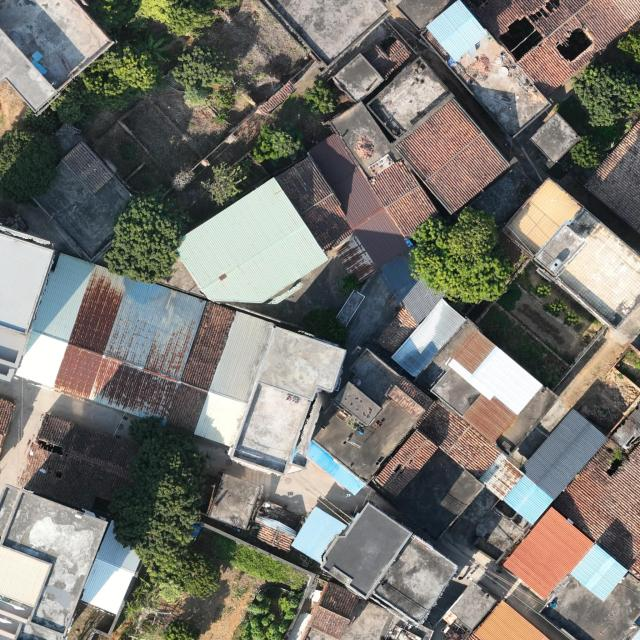tree: (110, 415, 207, 549), (409, 204, 513, 304), (102, 183, 186, 284), (77, 39, 169, 108), (133, 542, 221, 605), (0, 124, 64, 206), (571, 61, 640, 128), (171, 46, 236, 110), (252, 119, 304, 164), (200, 160, 248, 206), (47, 86, 89, 125), (568, 134, 604, 170), (304, 79, 336, 114), (21, 105, 58, 134), (157, 618, 200, 640), (616, 30, 640, 62)
